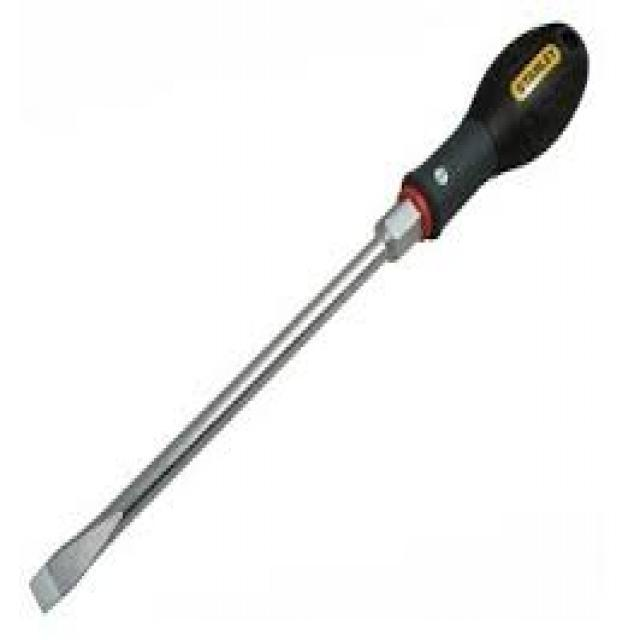screwdriver: (13, 12, 603, 624)
